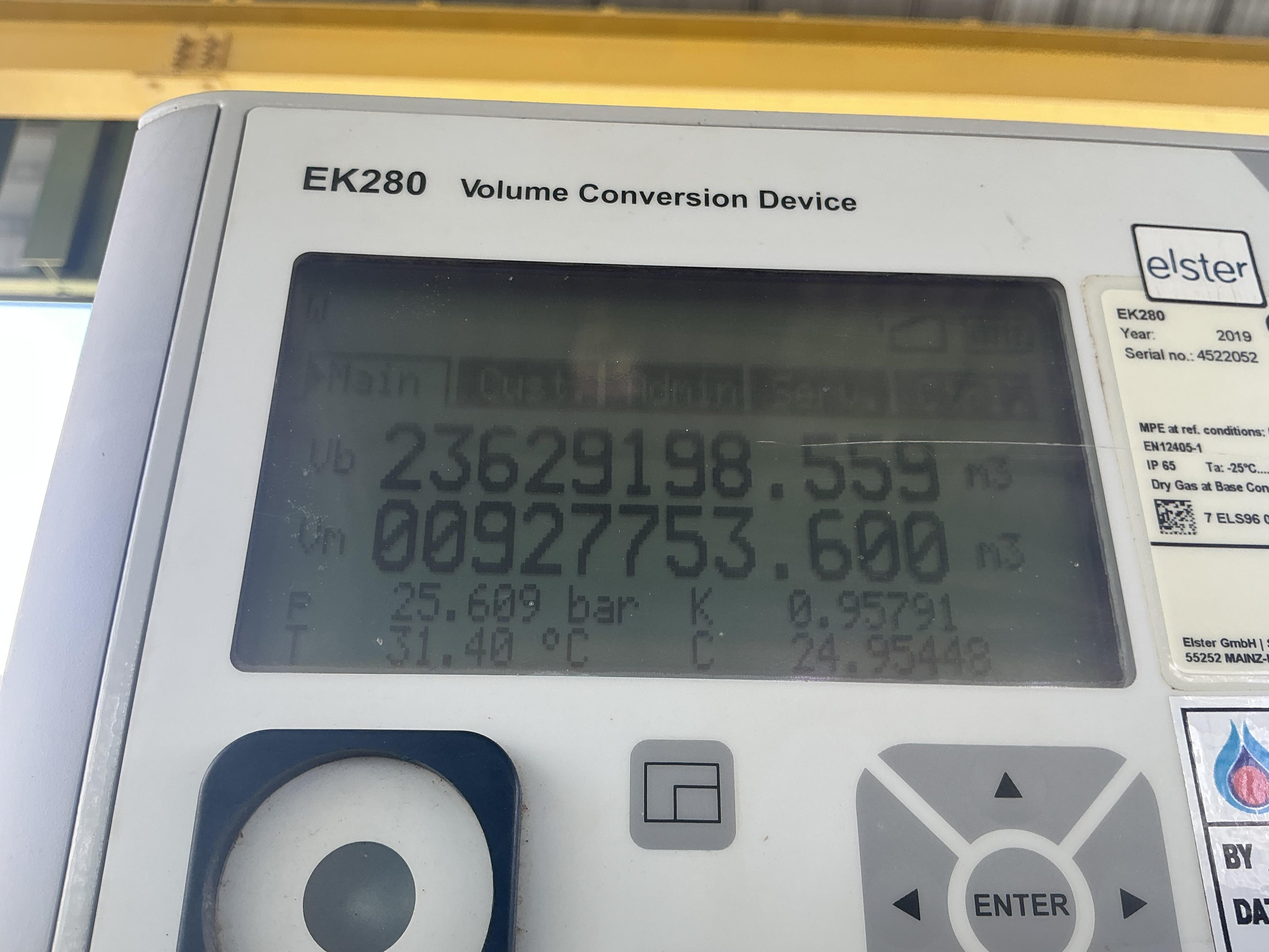digital_screen: (233, 254, 1141, 684)
